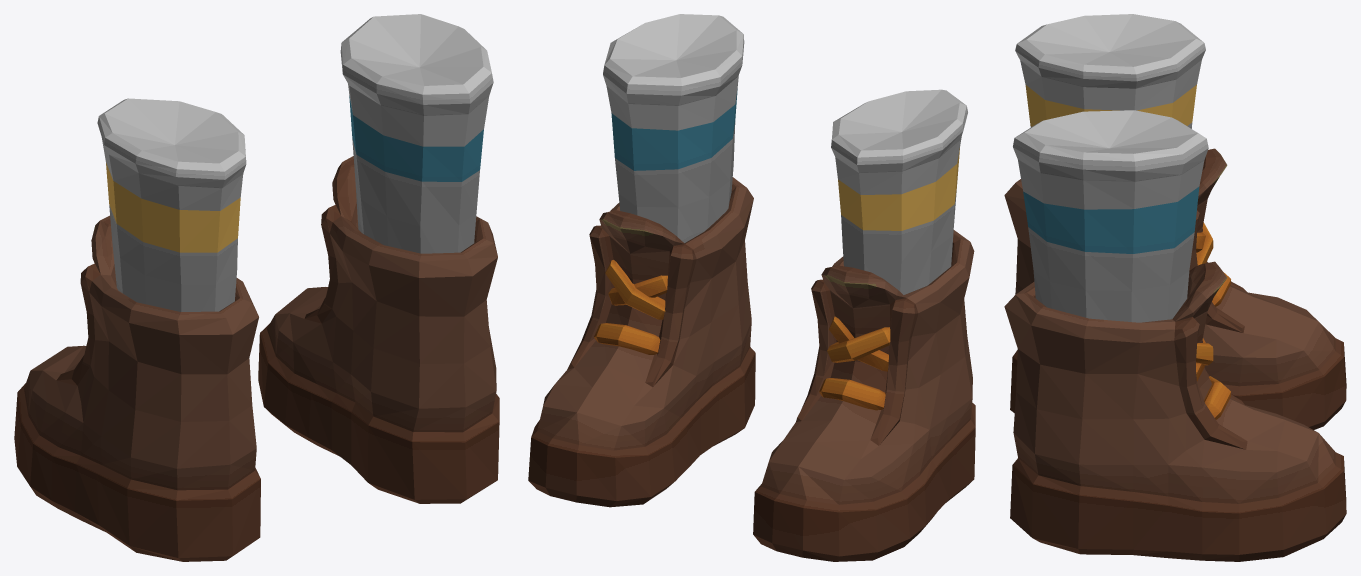
Rendered from CharSkyKid_Feet_AP19CargoShorts.glb.
The picture shows the model from 3 angles, left to right: view 1: azimuth 30°, elevation 25°; view 2: azimuth 150°, elevation 25°; view 3: azimuth 270°, elevation 25°; orthographic projection. The views are drawn at different scales.
Visible parts, largest first — view 1: CharSkyKid_Feet_AP19CargoShorts; view 2: CharSkyKid_Feet_AP19CargoShorts; view 3: CharSkyKid_Feet_AP19CargoShorts.
Boxes of the visible parts, <box> form: CharSkyKid_Feet_AP19CargoShorts: <box>14,14,499,561</box>; CharSkyKid_Feet_AP19CargoShorts: <box>528,14,975,561</box>; CharSkyKid_Feet_AP19CargoShorts: <box>1004,14,1346,561</box>.
Size of the model in its own units: 3.01 by 3.03 by 2.35.
Materials: 1 (1 with a texture image).
